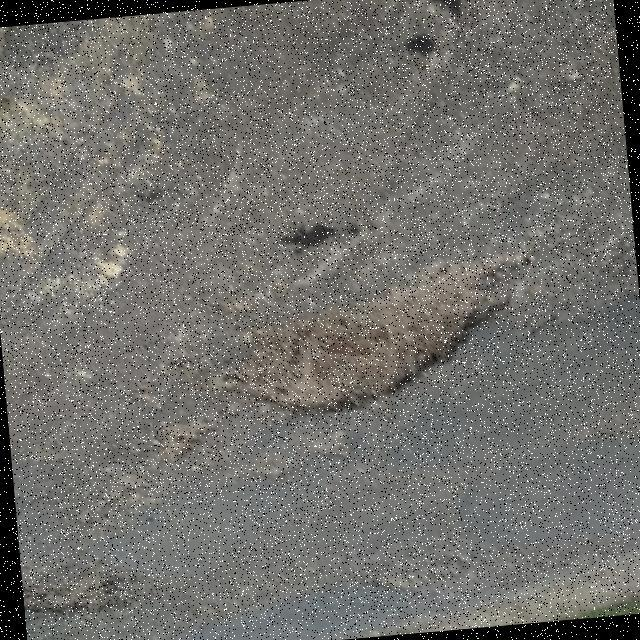Pothole: (219, 255, 516, 412), (20, 559, 156, 625)
